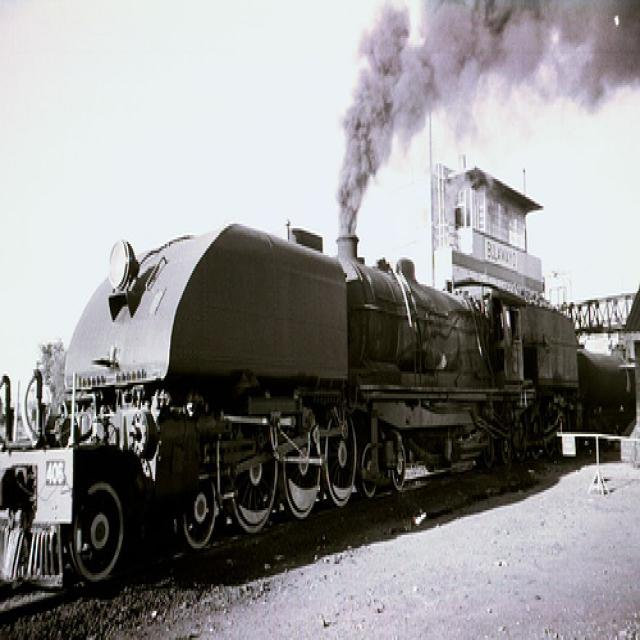train: (1, 234, 626, 587)
